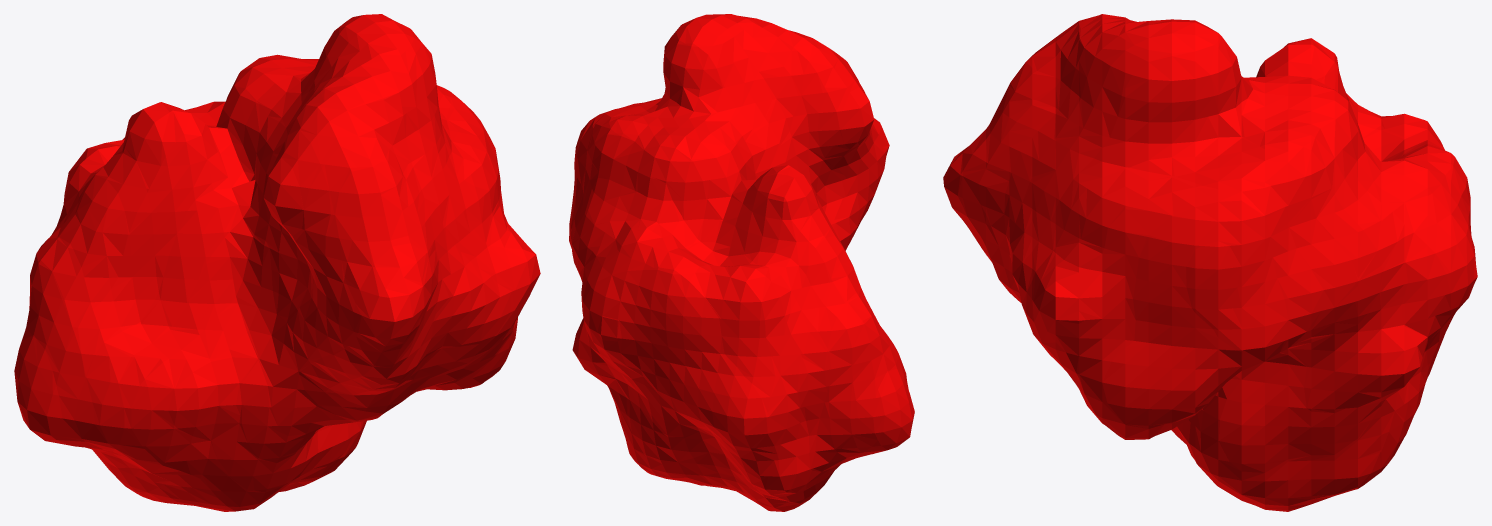
The model's file is yqjH_coarse.dae.
The picture shows the model from 3 angles, left to right: view 1: azimuth 30°, elevation 25°; view 2: azimuth 150°, elevation 25°; view 3: azimuth 270°, elevation 25°; orthographic projection. The views are drawn at different scales.
Visible parts, largest first — view 1: yqjH; view 2: yqjH; view 3: yqjH.
Part boxes in pixels (x1,y1,x2,y2): yqjH: (14, 14, 540, 511); yqjH: (569, 14, 914, 511); yqjH: (943, 14, 1477, 511).
Size of the model in its own units: 51.63 by 56.98 by 54.62.
